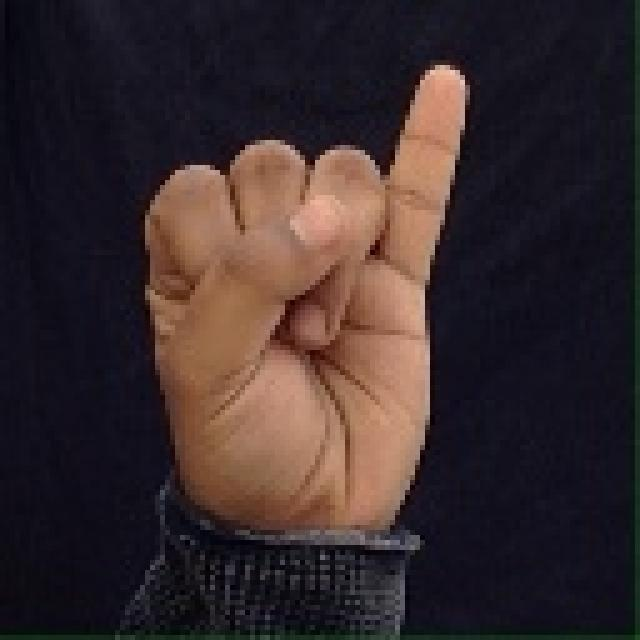Numeric-6: (135, 59, 471, 554)
